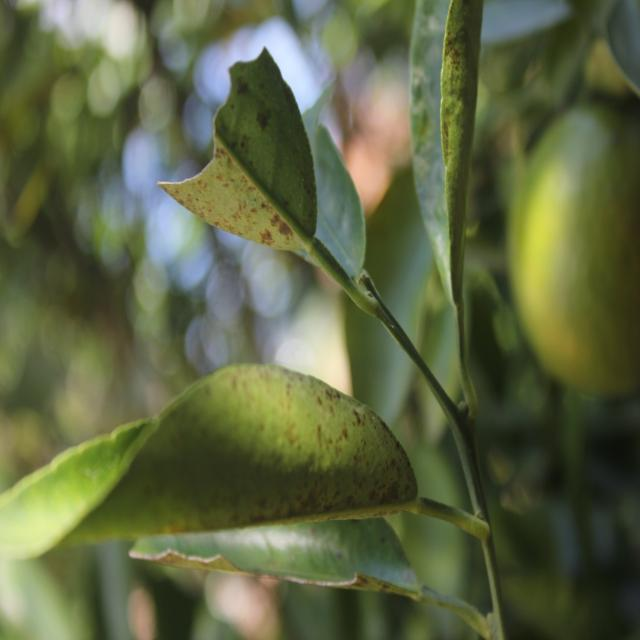melanose: (33, 361, 419, 554), (164, 45, 333, 271), (396, 0, 484, 298)
